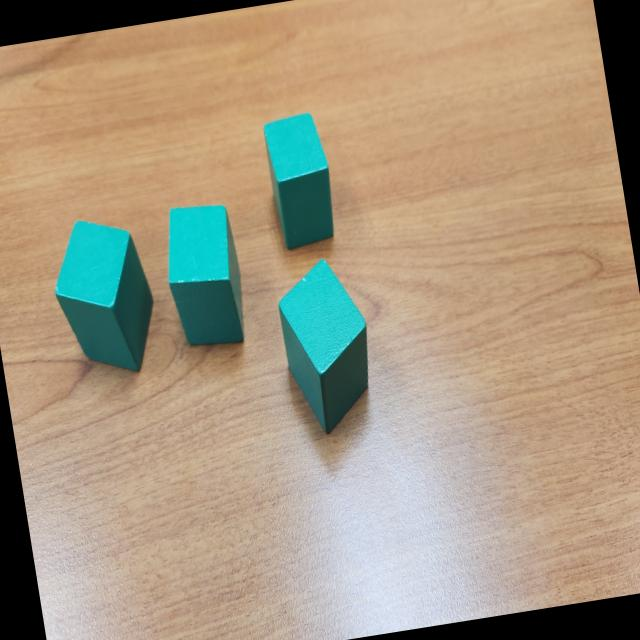green: (270, 255, 383, 440), (45, 209, 165, 383), (156, 198, 252, 352), (260, 110, 341, 252)
